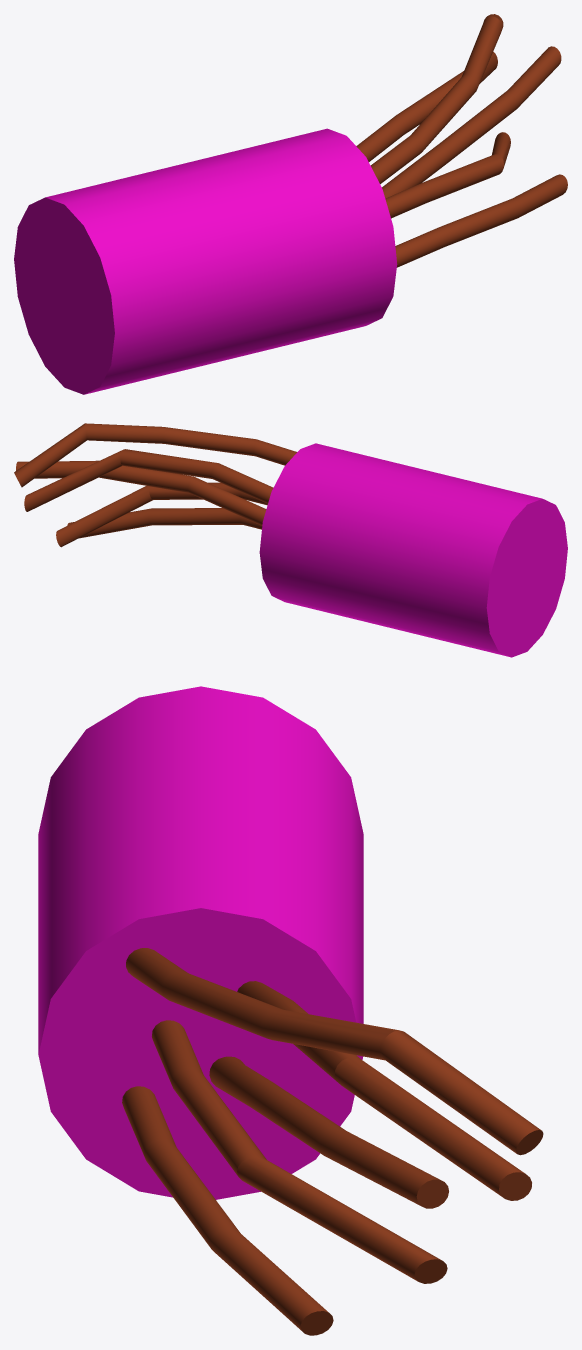
Rendered from cablecopperR.fbx.
3 views of the same model, one above another, from view 1: azimuth 30°, elevation 25°; view 2: azimuth 150°, elevation 25°; view 3: azimuth 270°, elevation 25° (orthographic). The views are drawn at different scales.
Parts seen in each view (by area): view 1: cablecopperR; view 2: cablecopperR; view 3: cablecopperR.
Part boxes in pixels (bbox=[...]): cablecopperR: bbox=[14, 14, 567, 394]; cablecopperR: bbox=[14, 423, 567, 657]; cablecopperR: bbox=[38, 686, 543, 1335].
Bounding box in the file's own units: 645 × 227 × 311.
